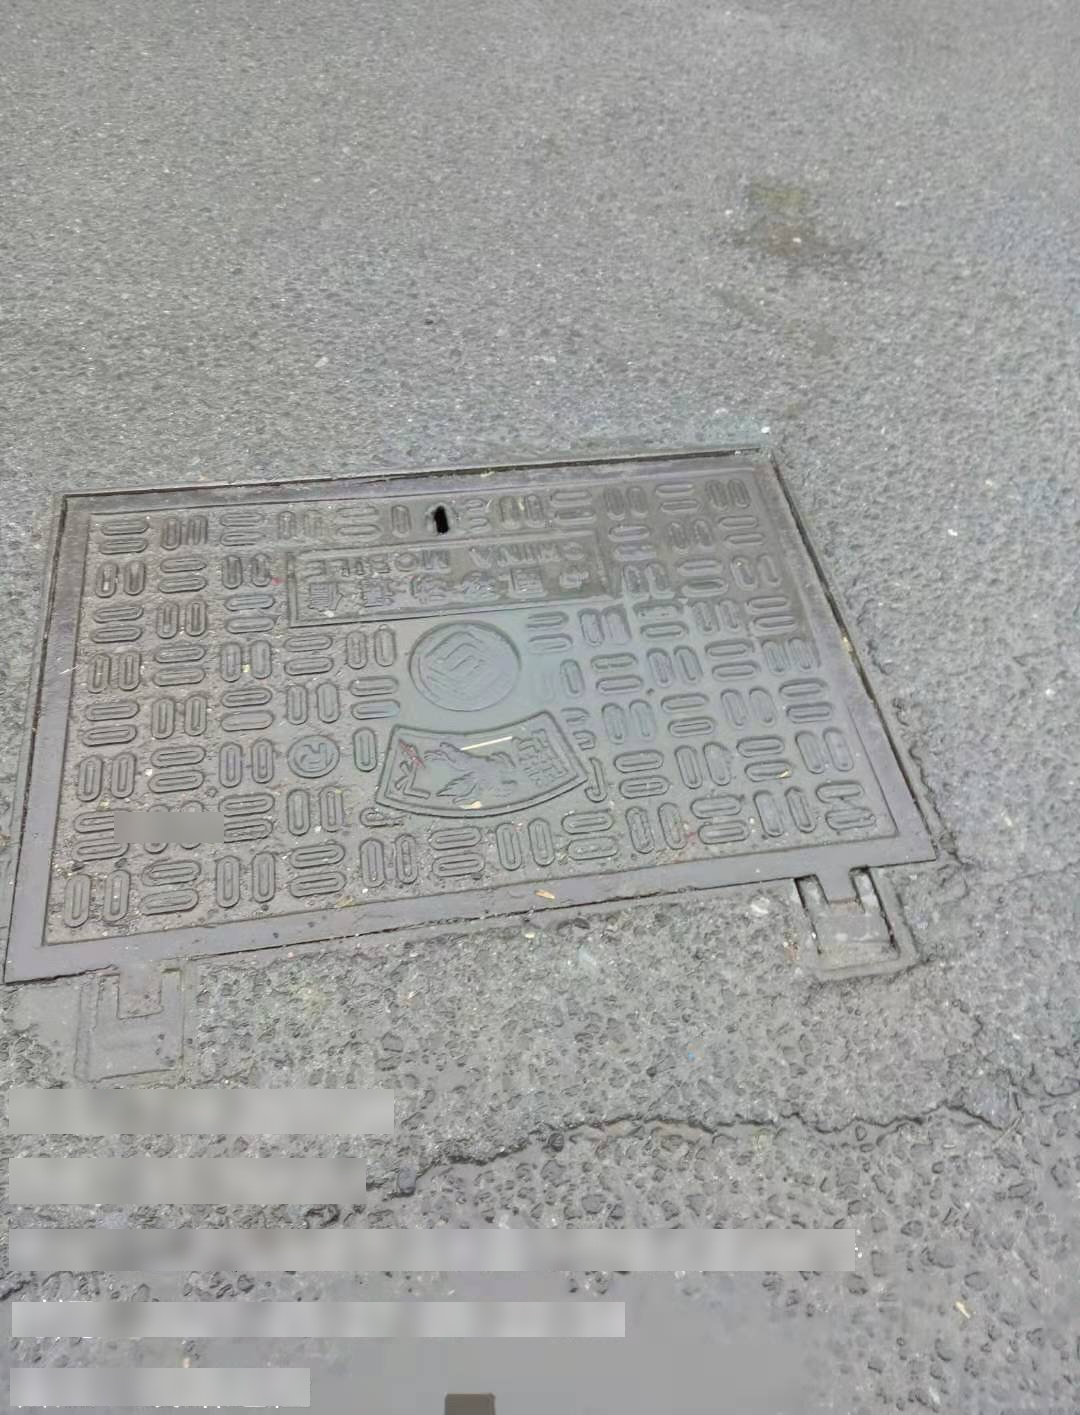good: (1, 436, 946, 1017)
